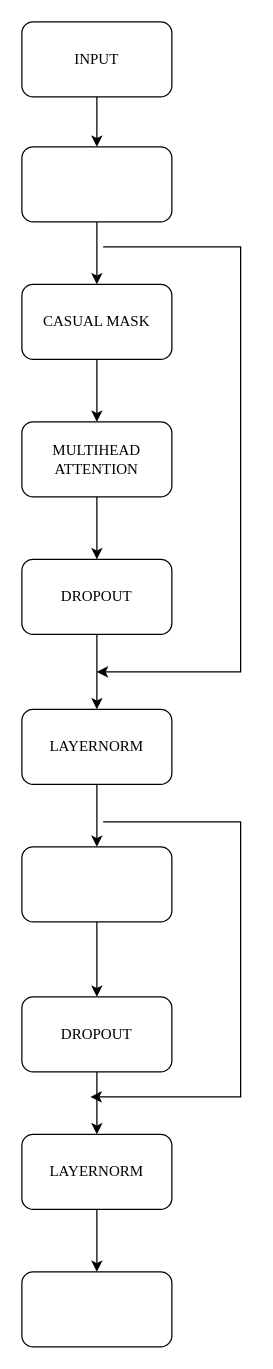
This 273x1369 diagram has some shape labels left out. The shapes that lost their labels are listed below. From the top down, each one's box as (x1, y1, x2, y2) in pixels, then its label:
(21, 146, 172, 222): POSITIONAL ENCODING
(21, 846, 172, 922): FEEDFORWARD
(21, 1271, 172, 1347): OUTPUT
